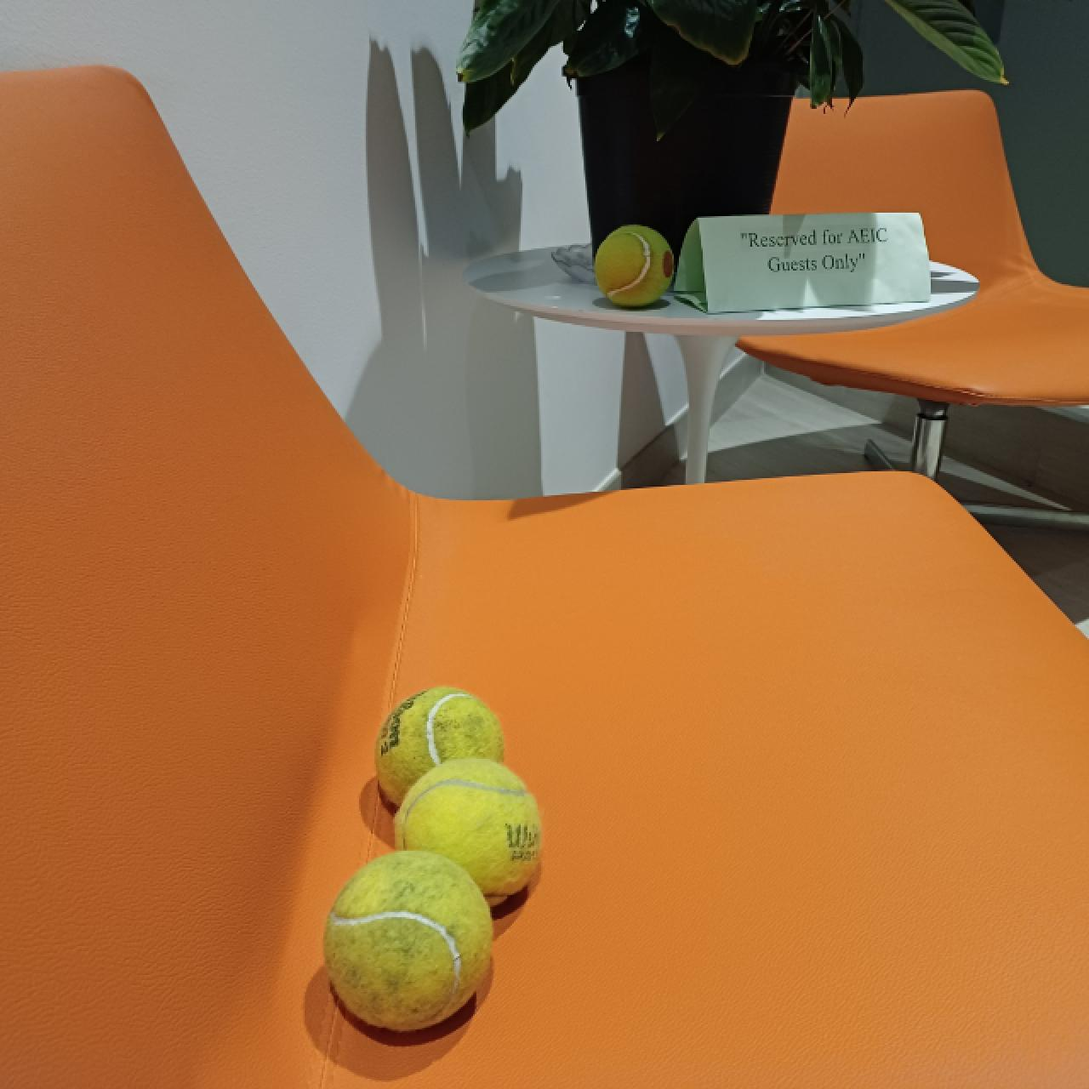tennis-ball: (325, 849, 493, 1033), (395, 756, 543, 911), (376, 684, 506, 810), (591, 223, 678, 308)
